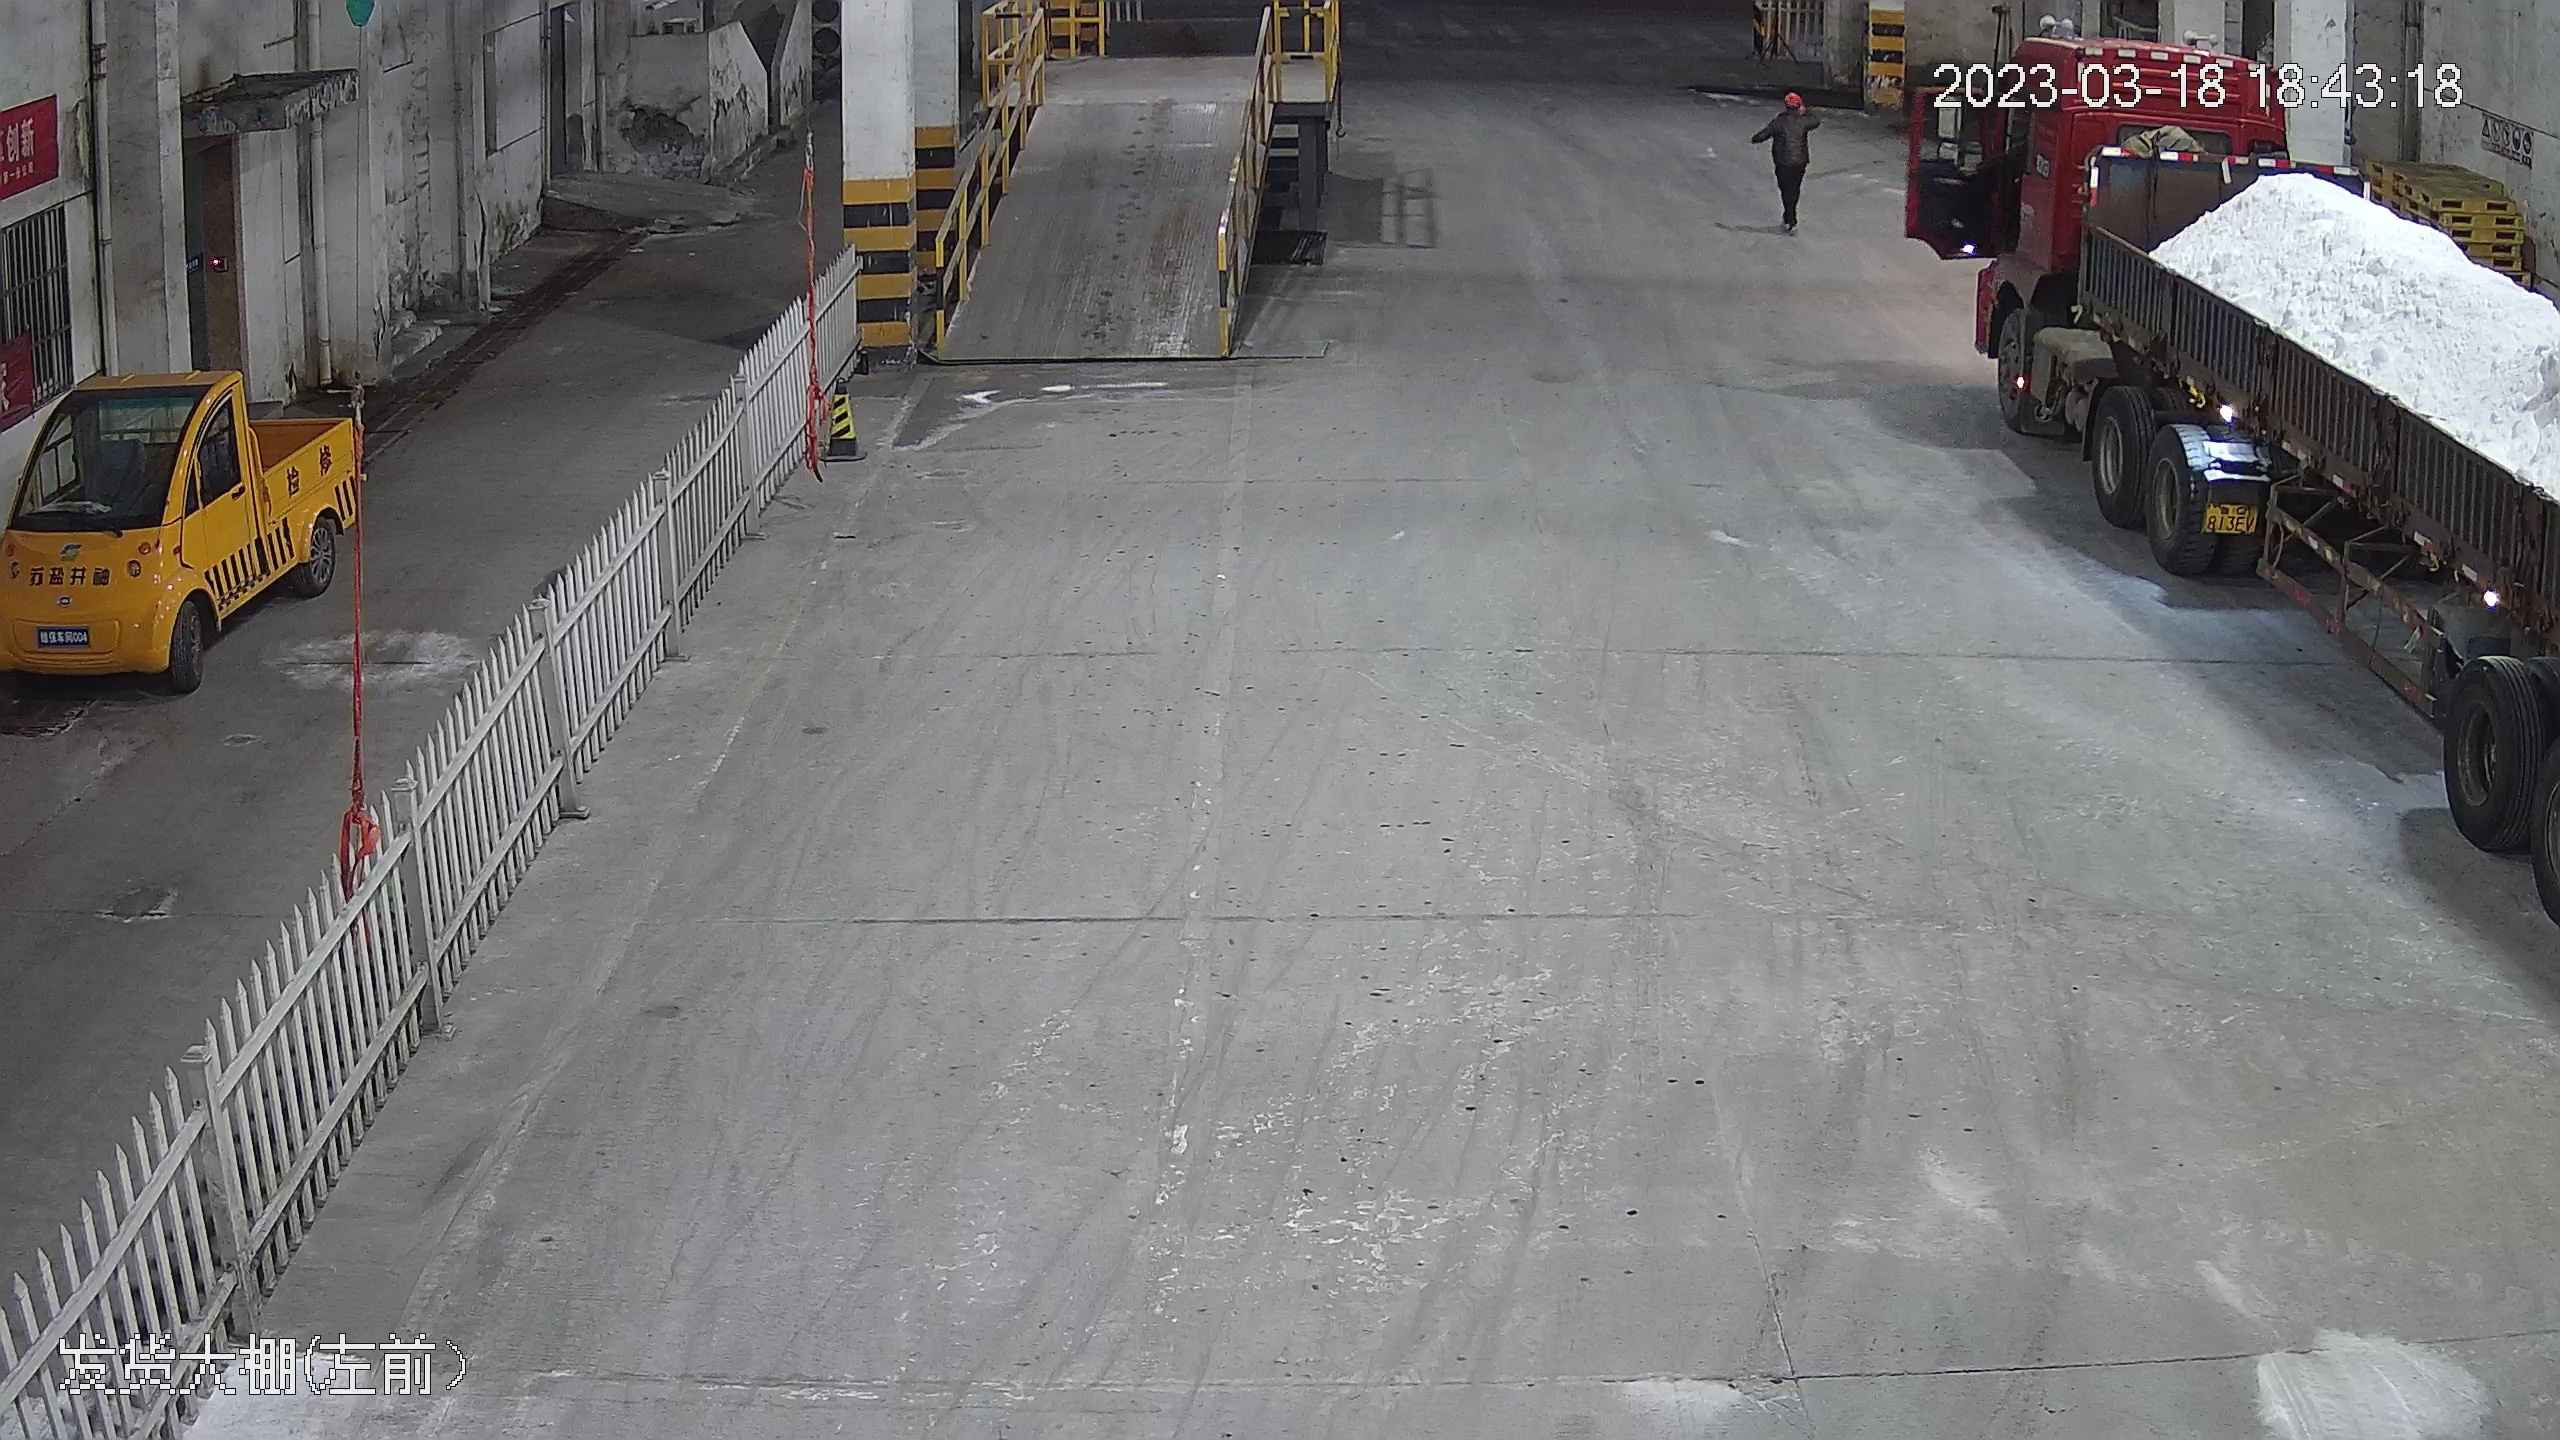head: (1769, 87, 1813, 131)
helmet: (1783, 92, 1801, 107)
people: (1760, 86, 1814, 233)
truck: (1916, 17, 2558, 677)
